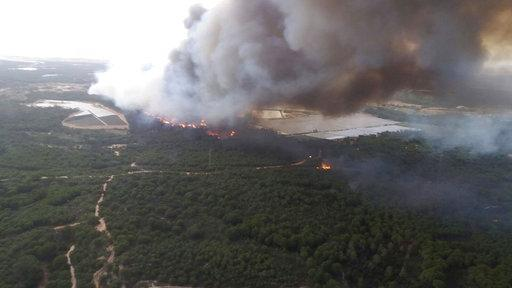fire: (169, 118, 200, 129), (204, 128, 238, 134)
smoke: (247, 0, 374, 94), (184, 42, 235, 115)
